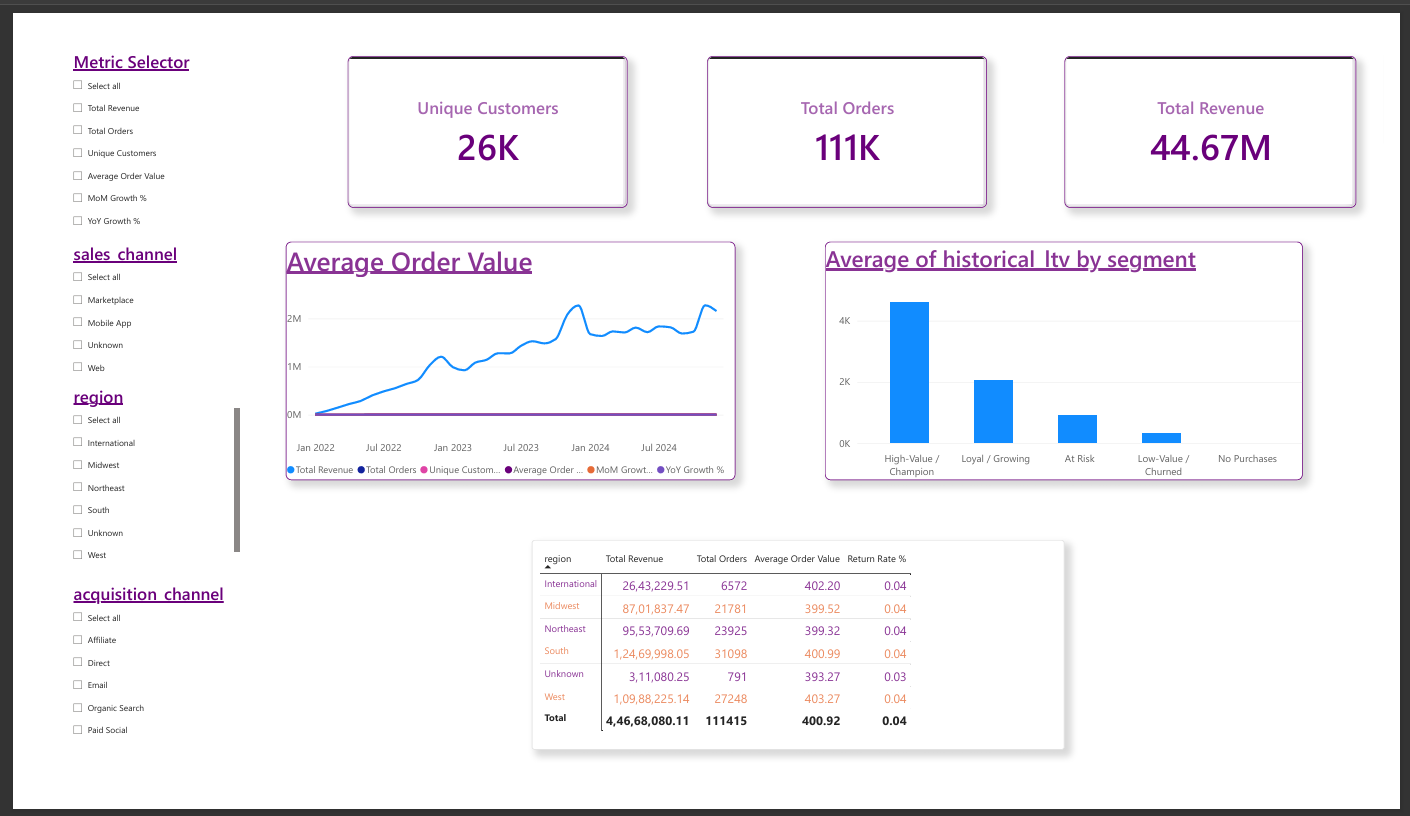

What the dashboard file says about the page in this screenshot:
{"tool":"powerbi","page":{"name":"Page 1","canvas":[1920,1080],"ordinal":0},"visuals":[{"type":"cardVisual","fields":{"Data":["_Measures.Total Revenue"]},"box":[1468.4,36.9,413.9,215.4],"z":0},{"type":"cardVisual","fields":{"Data":["_Measures.Total Orders"]},"box":[961,36.9,396.9,215.4],"z":1000},{"type":"cardVisual","fields":{"Data":["_Measures.Unique Customers"]},"box":[450.7,36.9,396.9,215.4],"z":2000},{"type":"lineChart","fields":{"Category":["dim_date.month_year"],"Y":["_Measures.Total Revenue","_Measures.Total Orders","_Measures.Unique Customers","_Measures.Average Order Value","_Measures.MoM Growth %","_Measures.YoY Growth %"]},"box":[362.8,300.5,637.8,337.3],"z":3000},{"type":"slicer","fields":{"Values":["Metric Selector.Metric Selector"]},"box":[53.9,28.3,243.8,272.1],"z":4000},{"type":"slicer","fields":{"Values":["fact_order_items.sales_channel"]},"box":[53.9,300.5,243.8,201.3],"z":5000},{"type":"slicer","fields":{"Values":["dim_customers.region"]},"box":[53.9,501.7,243.8,249.5],"z":6000},{"type":"slicer","fields":{"Values":["dim_customers.acquisition_channel"]},"box":[53.9,782.4,243.8,238.1],"z":7000},{"type":"pivotTable","fields":{"Rows":["dim_customers.region"],"Values":["_Measures.Total Revenue","_Measures.Total Orders","_Measures.Average Order Value","_Measures.Return Rate %"]},"box":[711.5,722.8,756.9,297.6],"z":8000},{"type":"clusteredColumnChart","fields":{"Category":["dim_customers.segment"],"Y":["Avg(dim_customers.historical_ltv)"]},"box":[1128.2,300.5,677.5,337.3],"z":9000}]}

Visuals, with their boxes in screenshot pixels (x1, y1, x2, y2), scaled from the page's 1920x1080 canvas onto the 1410x816 screenshot:
cardVisual - _Measures.Total Revenue: <bbox>1078, 28, 1382, 191</bbox>
cardVisual - _Measures.Total Orders: <bbox>706, 28, 997, 191</bbox>
cardVisual - _Measures.Unique Customers: <bbox>331, 28, 622, 191</bbox>
lineChart - dim_date.month_year x _Measures.Total Revenue: <bbox>266, 227, 735, 482</bbox>
slicer - Metric Selector.Metric Selector: <bbox>40, 21, 219, 227</bbox>
slicer - fact_order_items.sales_channel: <bbox>40, 227, 219, 379</bbox>
slicer - dim_customers.region: <bbox>40, 379, 219, 568</bbox>
slicer - dim_customers.acquisition_channel: <bbox>40, 591, 219, 771</bbox>
pivotTable - dim_customers.region x _Measures.Total Revenue: <bbox>523, 546, 1078, 771</bbox>
clusteredColumnChart - dim_customers.segment x Avg(dim_customers.historical_ltv): <bbox>829, 227, 1326, 482</bbox>
